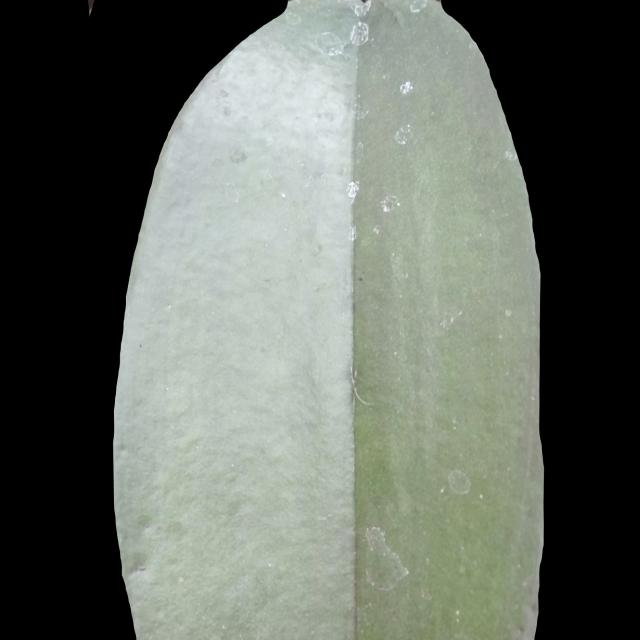mite: (349, 72, 420, 294), (431, 461, 489, 510), (445, 467, 472, 497), (392, 121, 414, 148), (395, 75, 417, 99), (498, 143, 520, 167), (351, 265, 372, 290), (378, 193, 400, 214), (408, 0, 428, 14), (398, 79, 413, 95), (502, 148, 517, 163), (355, 270, 368, 285), (452, 606, 462, 622), (134, 563, 147, 574), (438, 485, 446, 496), (357, 274, 366, 283), (477, 491, 485, 501), (136, 341, 144, 349)
spots: (111, 2, 545, 637)
